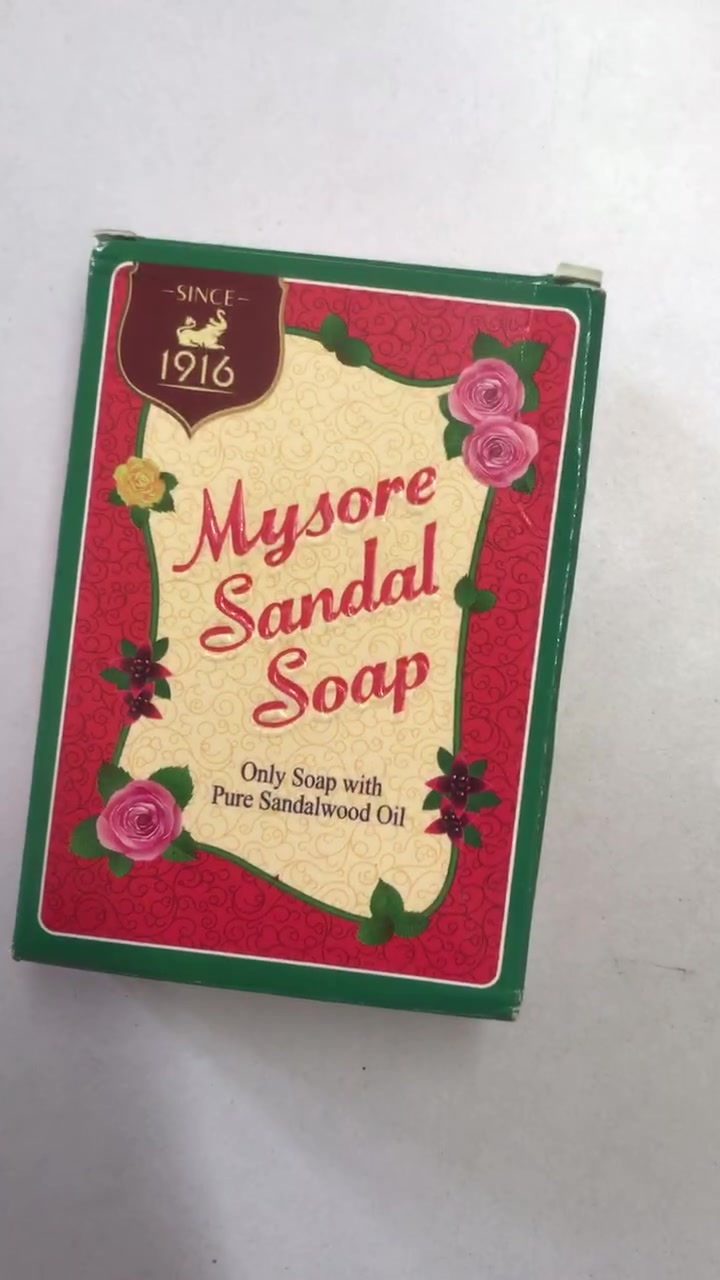mysore sandal soap: (17, 232, 608, 1028)
